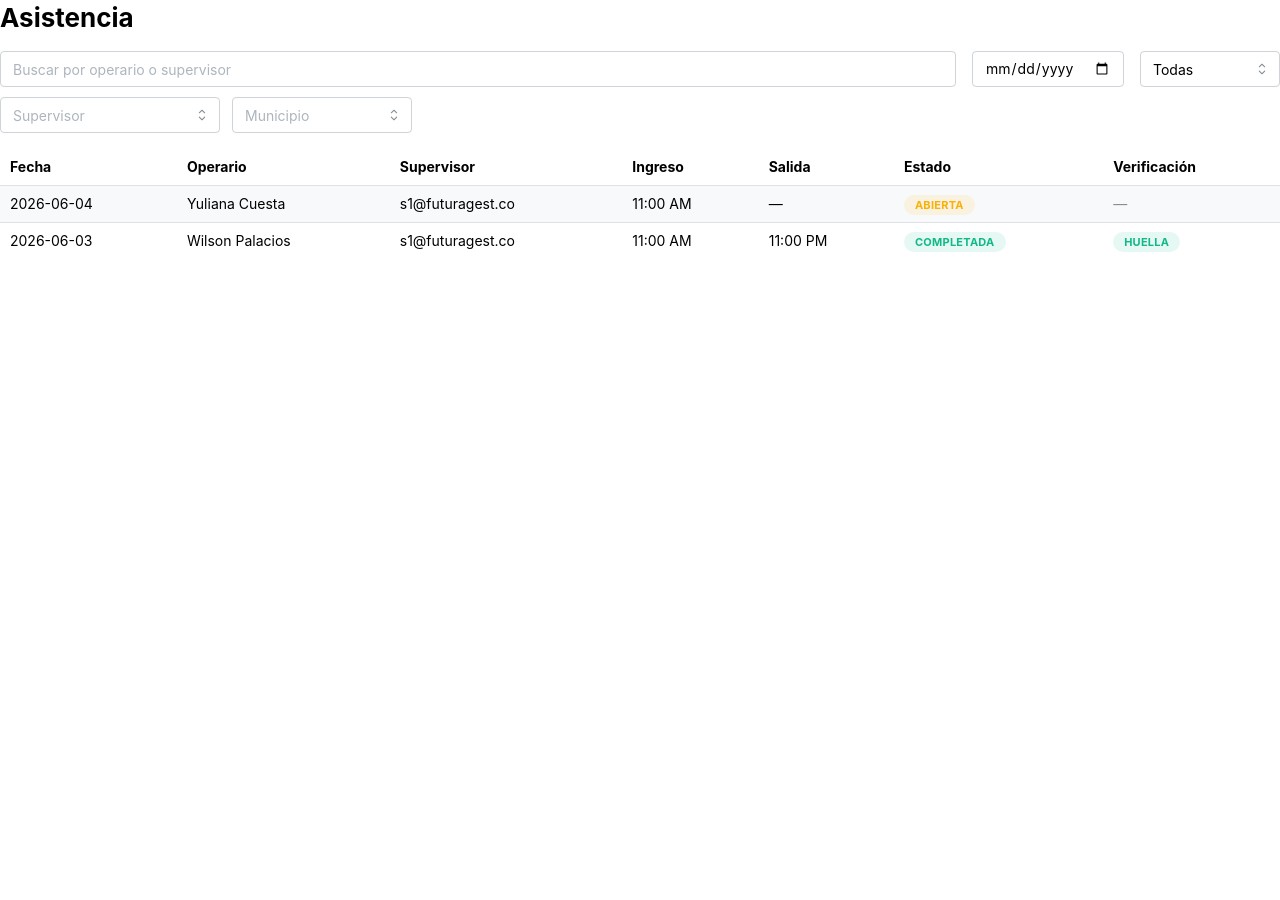
it: AsistenciaPage › opens the detail drawer when a row is clicked
Click the text "Wilson Palacios". click: (283, 241)
box: [177,222,390,259]
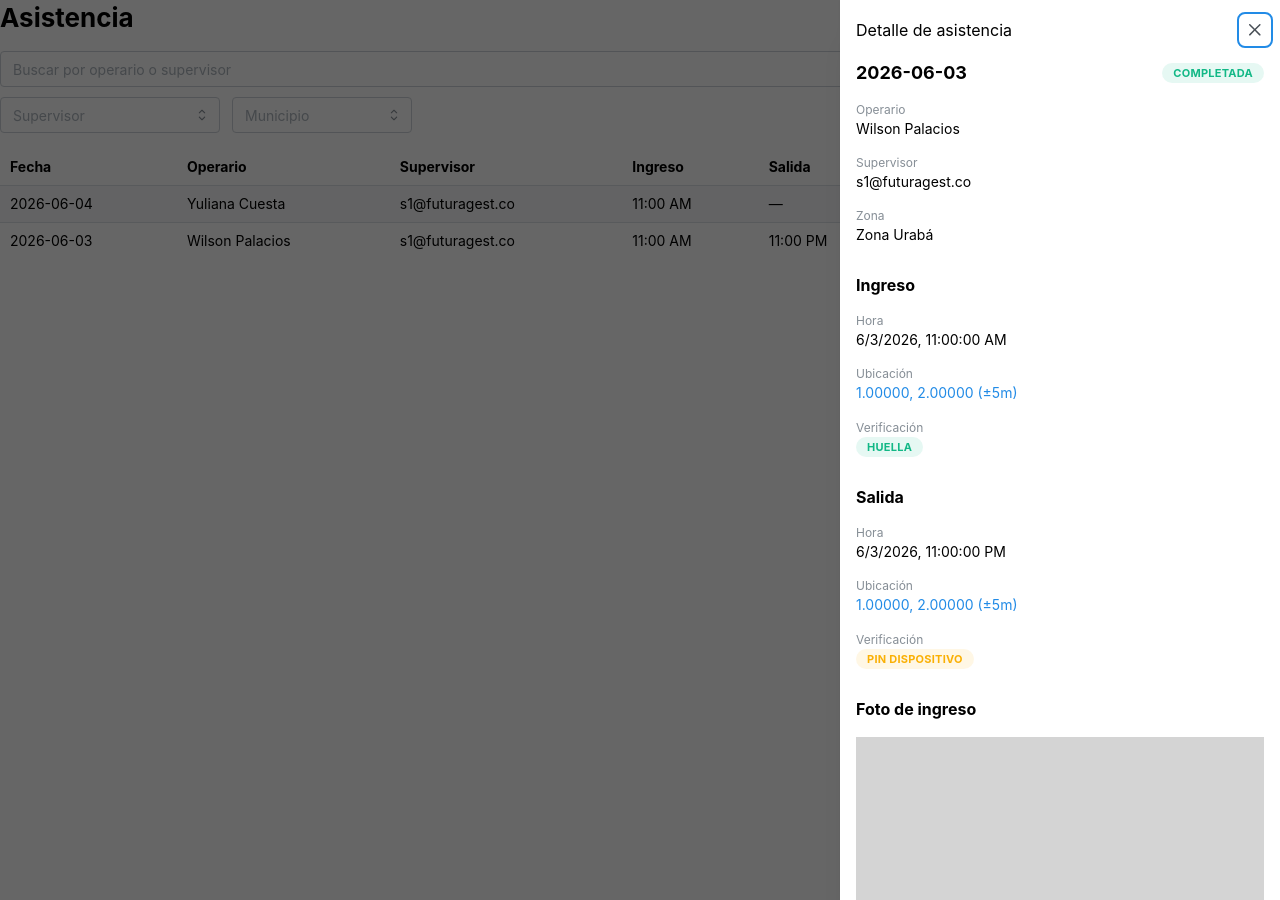
Check: the heading "Detalle de asistencia" is shown, box [856,22,1012,38]
Check: the heading "Foto de ingreso" is shown, box [856,699,976,719]
